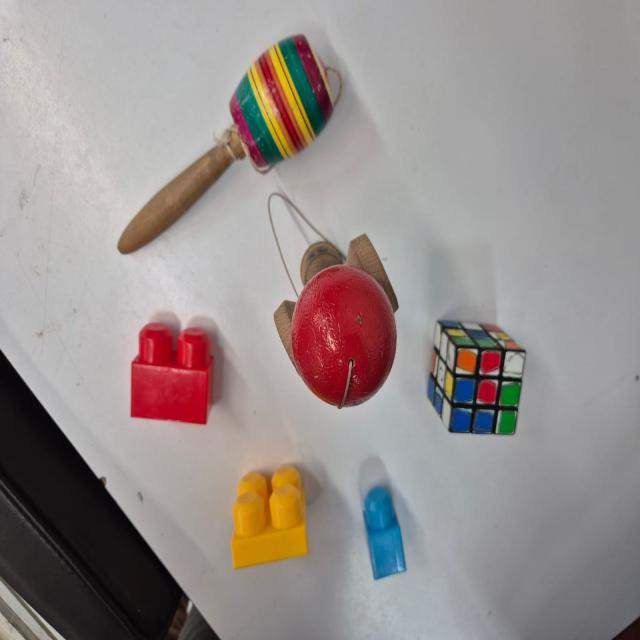balero: (118, 34, 345, 253)
balero ball: (265, 190, 401, 410)
lego 2: (130, 321, 214, 424)
lego 4: (230, 463, 308, 568)
lego_1: (362, 486, 406, 579)
rubick: (428, 318, 528, 434)
